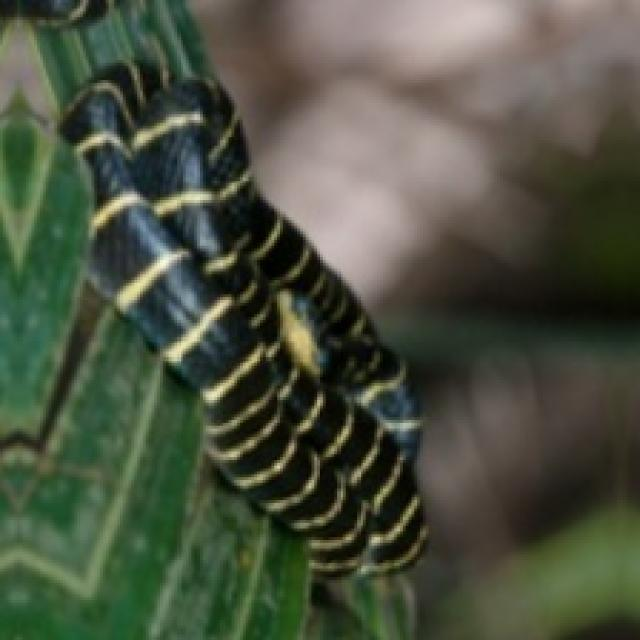mangrove cat snake: (60, 63, 426, 571)
